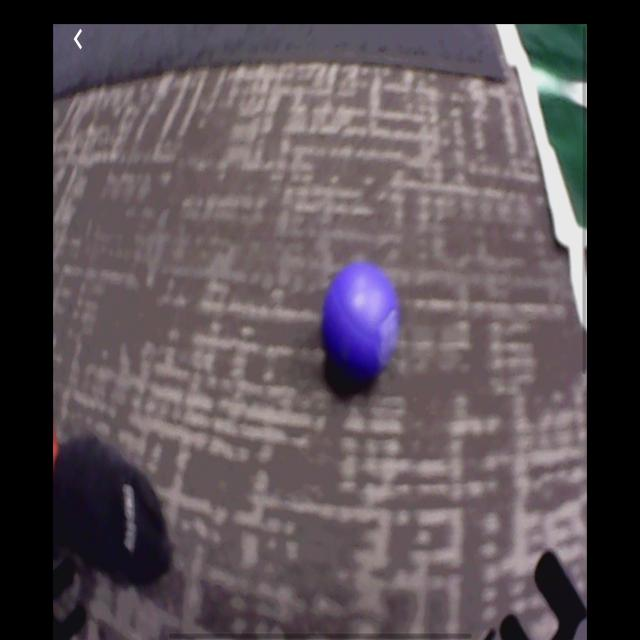ball: (324, 262, 396, 378)
